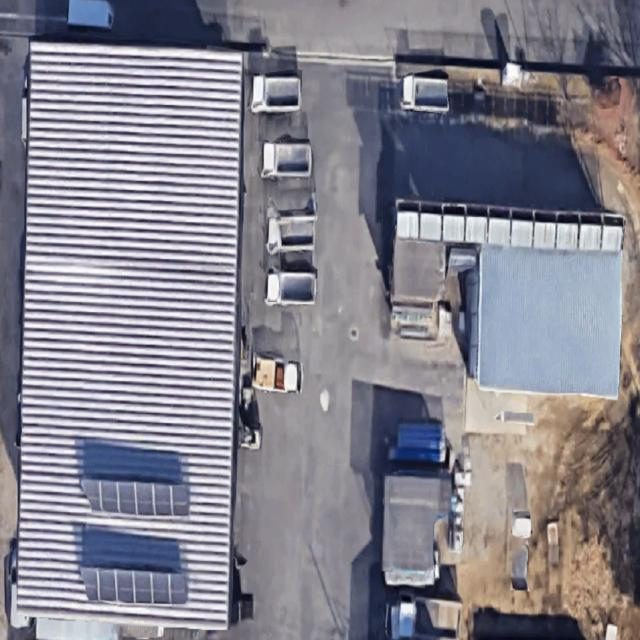Batiment: (18, 42, 242, 629), (390, 198, 624, 397), (382, 475, 451, 587)
